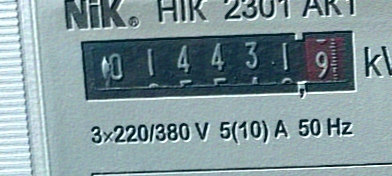0: (107, 47, 127, 80)
1: (143, 42, 161, 75), (280, 37, 293, 69)
3: (243, 37, 262, 69)
4: (174, 39, 195, 72), (209, 36, 227, 70)
9: (314, 45, 331, 76)
screen: (74, 19, 369, 106)
